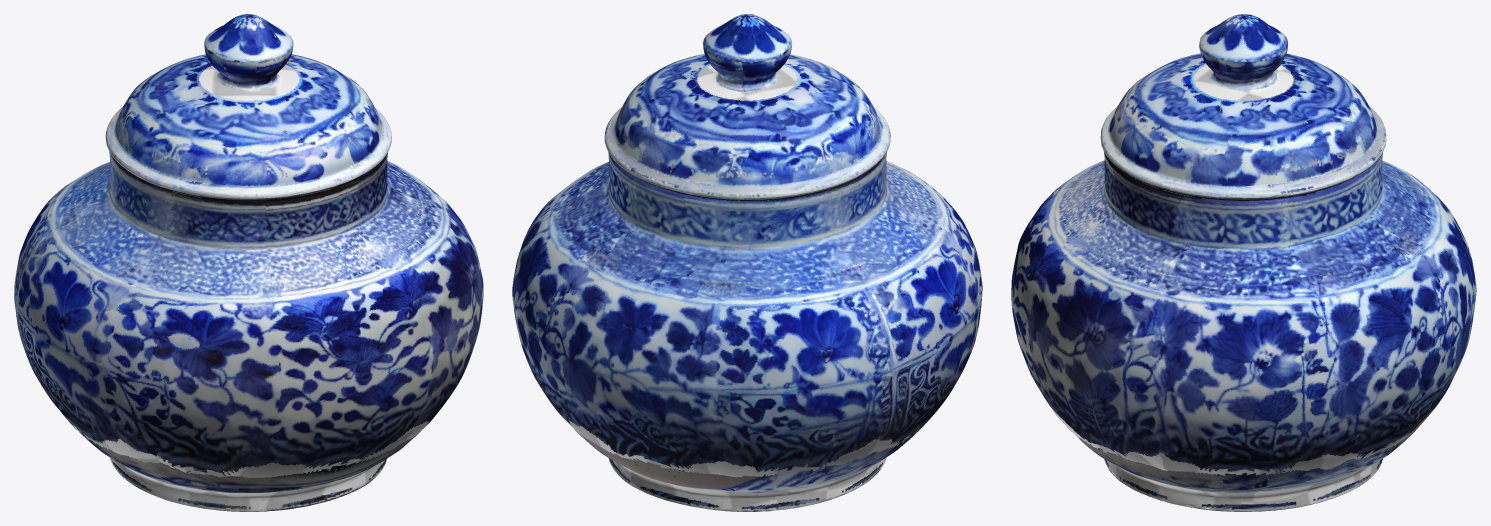
The model's file is text2tex.glb.
3 views of the same model, side by side, from view 1: azimuth 30°, elevation 25°; view 2: azimuth 150°, elevation 25°; view 3: azimuth 270°, elevation 25° (orthographic).
Parts seen in each view (by area): view 1: 9; view 2: 9; view 3: 9.
Boxes of the visible parts, box(x1,y1,x2,y2) form: 9: box(14, 14, 483, 511); 9: box(512, 14, 982, 511); 9: box(1011, 14, 1476, 511).
Size of the model in its own units: 0.9685 by 1 by 0.9642.
1 material, 1 textured.
